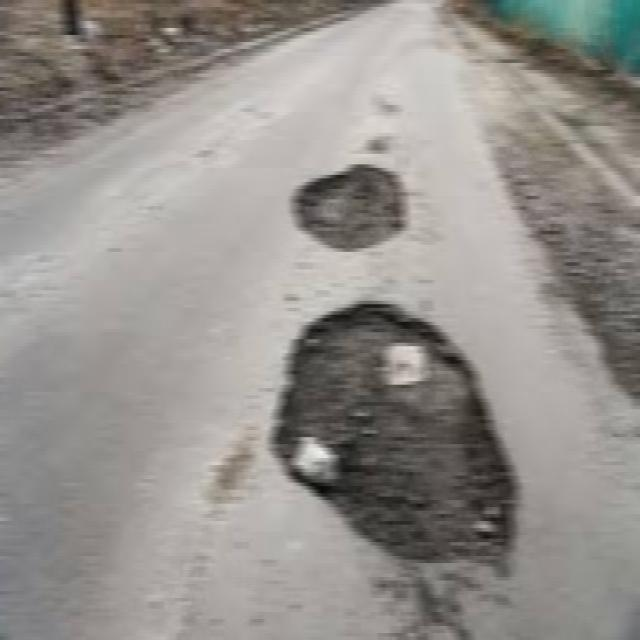Pothole: (258, 289, 522, 590), (283, 159, 421, 267)
